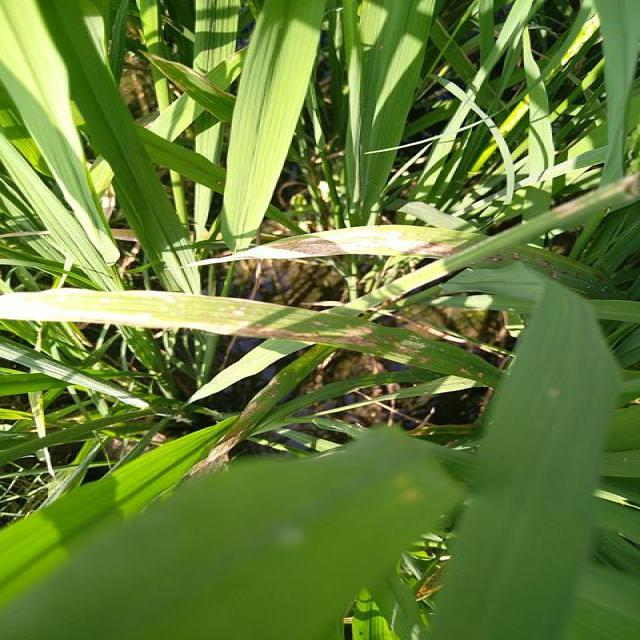Leaf Streak: (0, 288, 505, 383), (191, 346, 332, 478), (185, 226, 472, 267), (149, 53, 235, 125), (475, 247, 601, 293)
